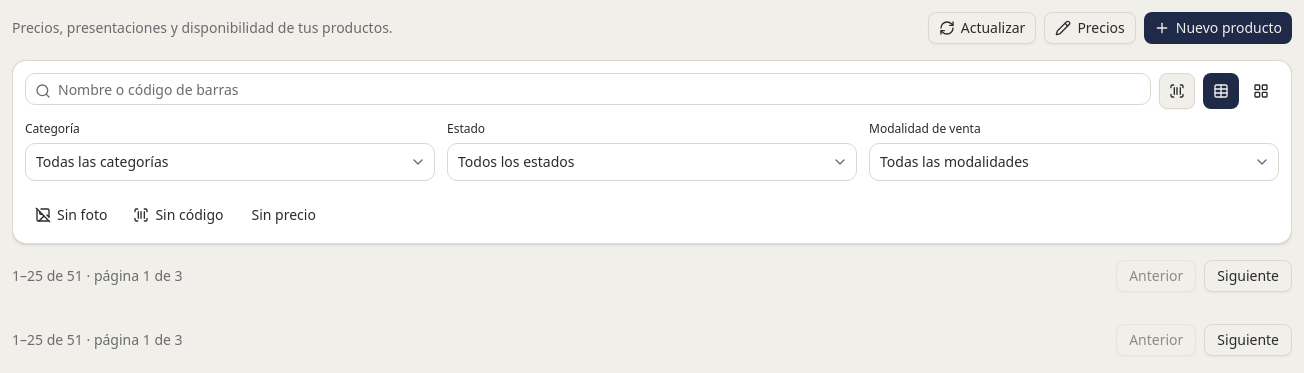
sincroniza las dos paginaciones y mantiene sus límites al recorrer el catálogo
Expected: the 1st button "Anterior" is disabled, [1116,260,1196,292]
Click the 1st button "Siguiente" at (1248, 276), box [1204,260,1292,292]
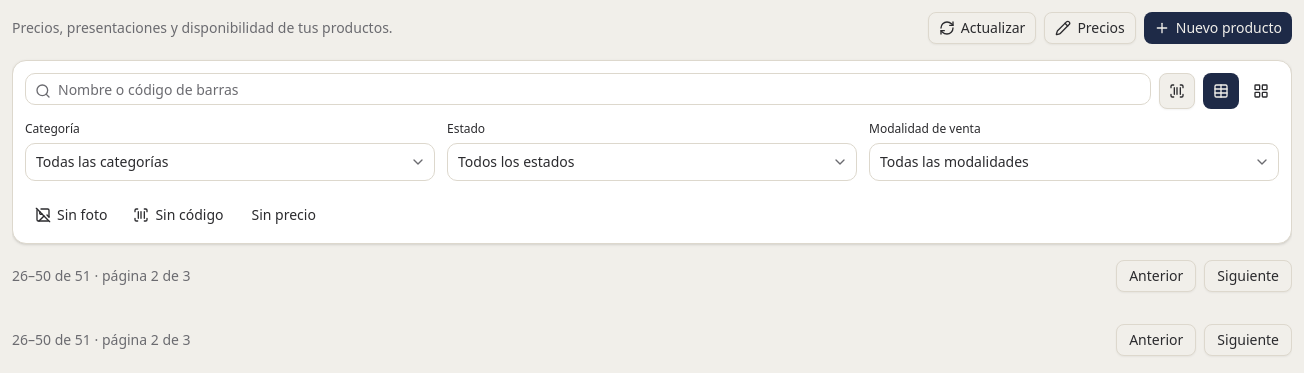
Expected: the 1st text "26–50 de 51 · página 2 de 3" is shown, [12,266,191,286]
Expected: the 2nd text "26–50 de 51 · página 2 de 3" is shown, [12,330,191,350]
Click the 2nd button "Siguiente" at (1248, 340), box [1204,324,1292,356]
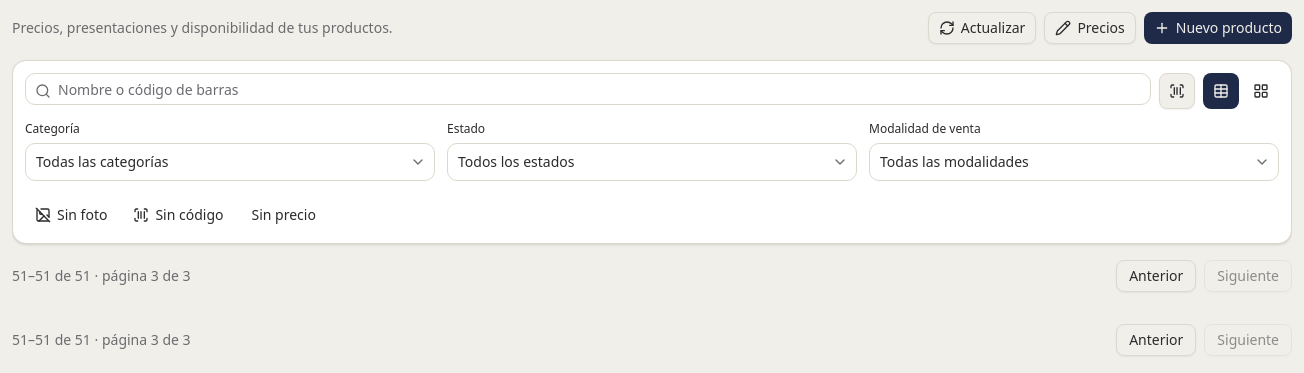
Expected: the 1st button "Siguiente" is disabled, [1204,260,1292,292]
Expected: the 2nd button "Siguiente" is disabled, [1204,324,1292,356]
Click the 1st button "Anterior" at (1156, 276), box [1116,260,1196,292]
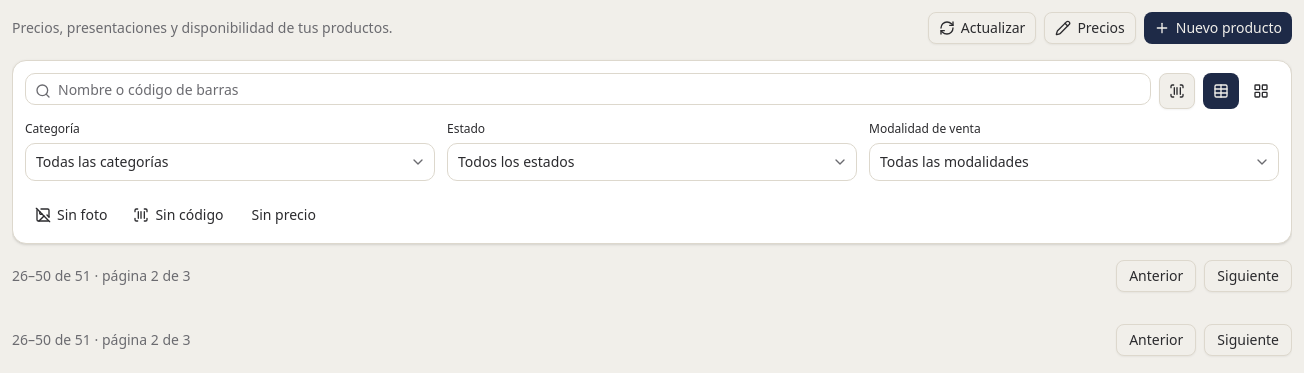
Expected: the 2nd text "26–50 de 51 · página 2 de 3" is shown, [12,330,191,350]
Type "Producto 50" into the field named "Buscar productos" at (588, 89), box [25,73,1151,105]
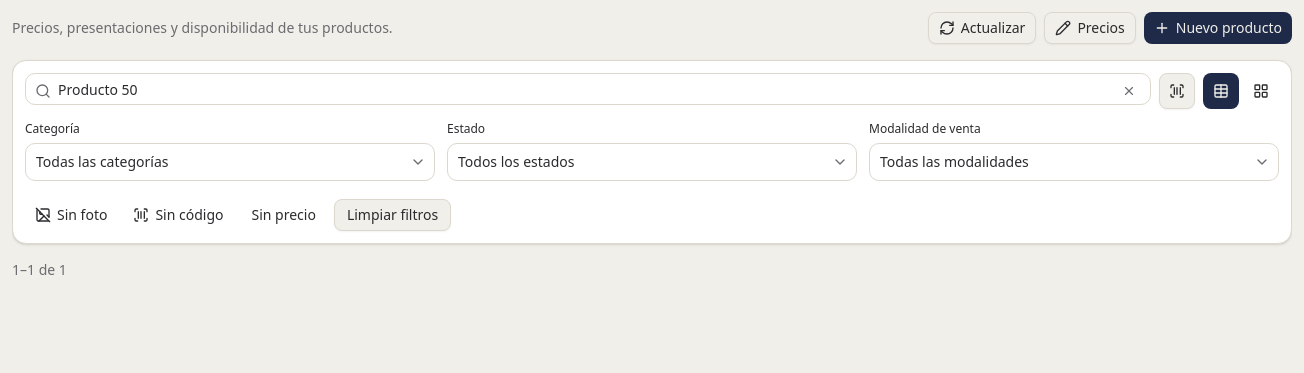
Expected: the text "1–1 de 1" is shown, [12,260,67,280]
